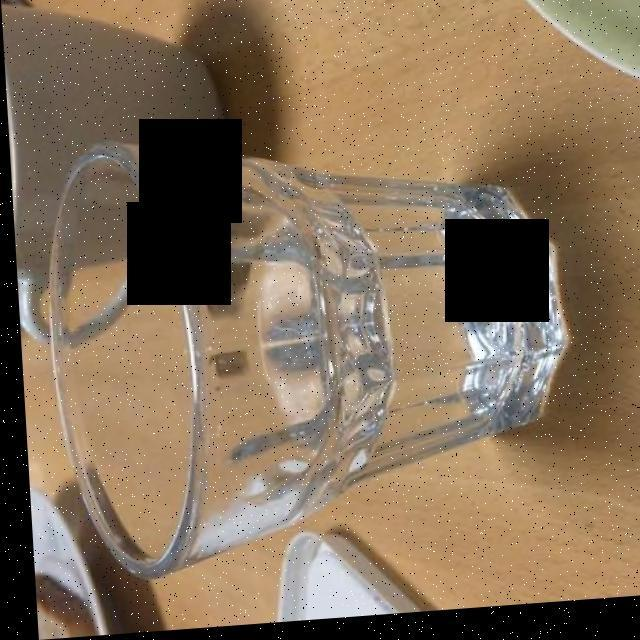water: (167, 157, 566, 528)
